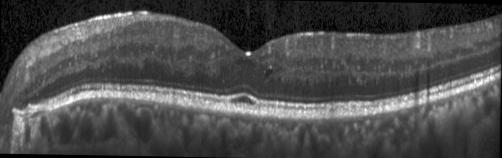intraretinal_cyst: (265, 69, 272, 80)
subretinal_fluid: (233, 96, 254, 103)
